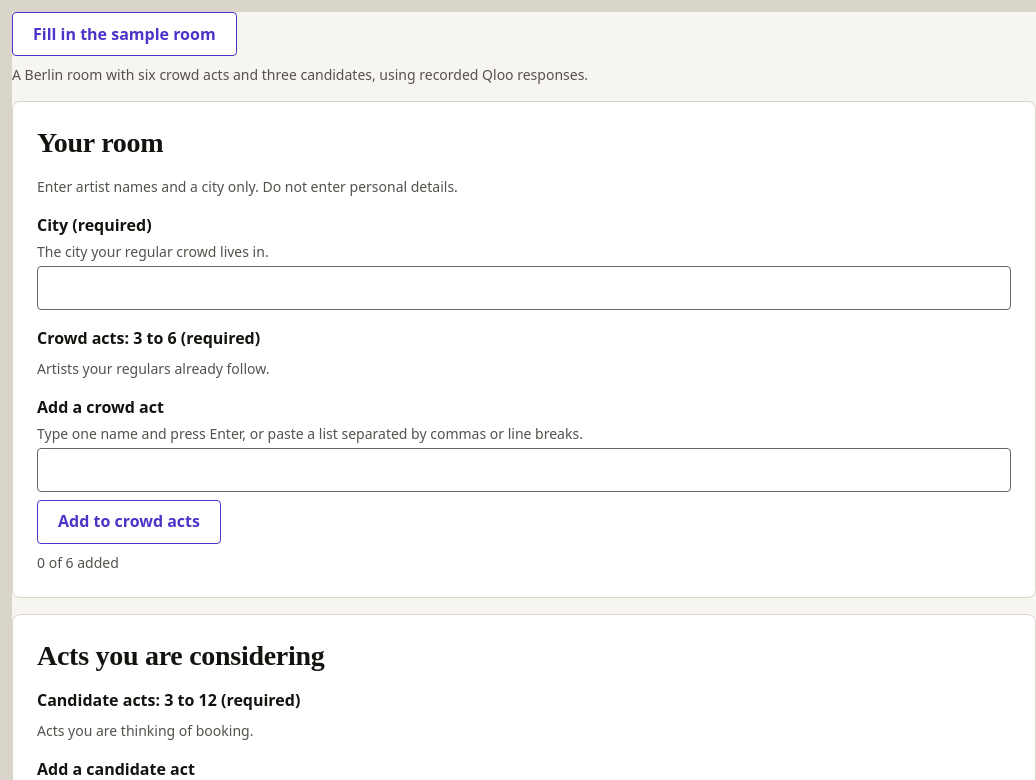
RoomForm › adds with Enter, shows counters, removes with a labelled button and announces it
The width and height of the screenshot is (1036, 780).
Type "Apparat" into the field labelled "Add a crowd act". click: (524, 470)
box: [37, 448, 1011, 492]
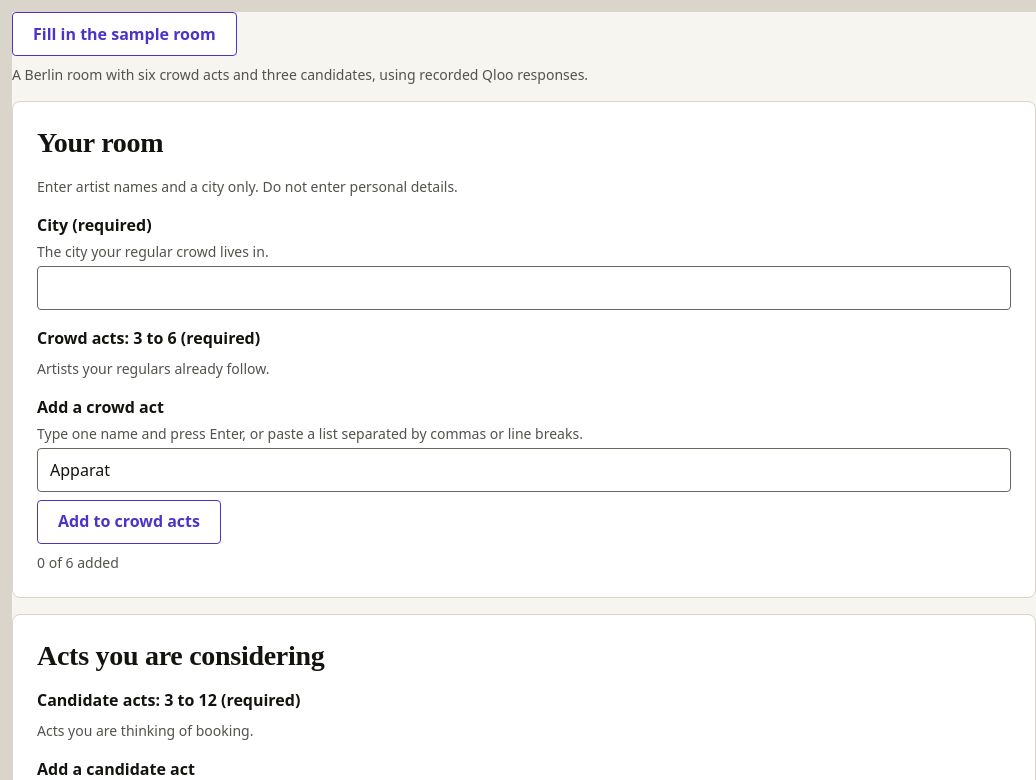
Press Enter in the field labelled "Add a crowd act", box [37, 448, 1011, 492]
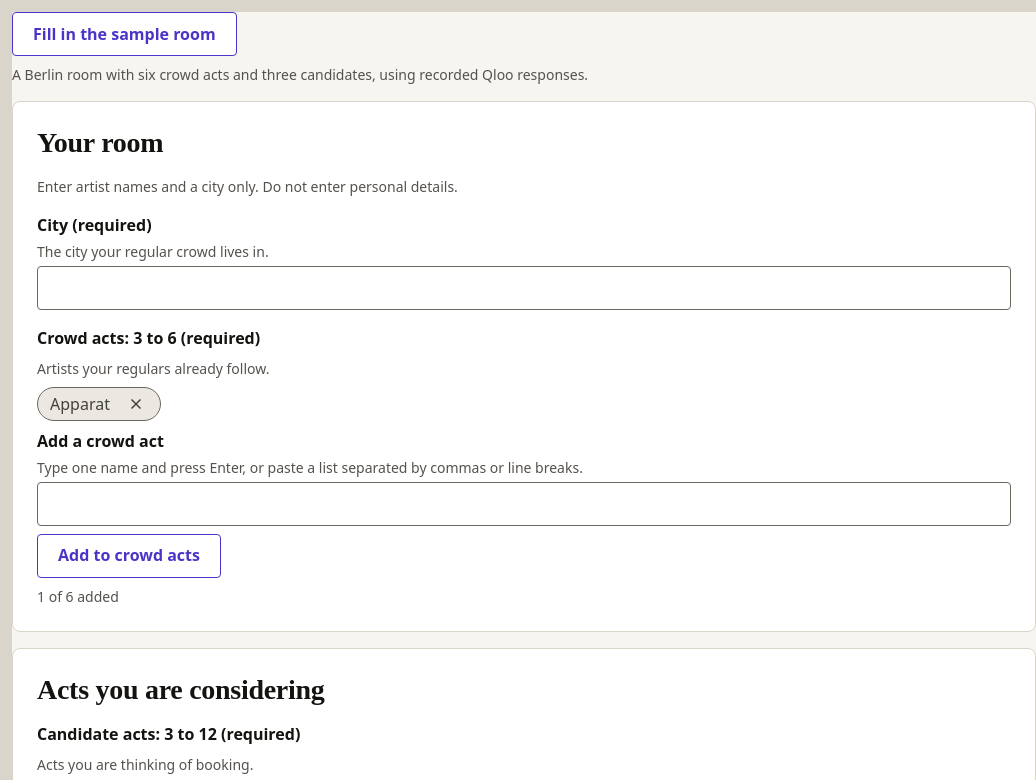
Type "Moderat" into the field labelled "Add a crowd act". click: (524, 504)
box: [37, 482, 1011, 526]
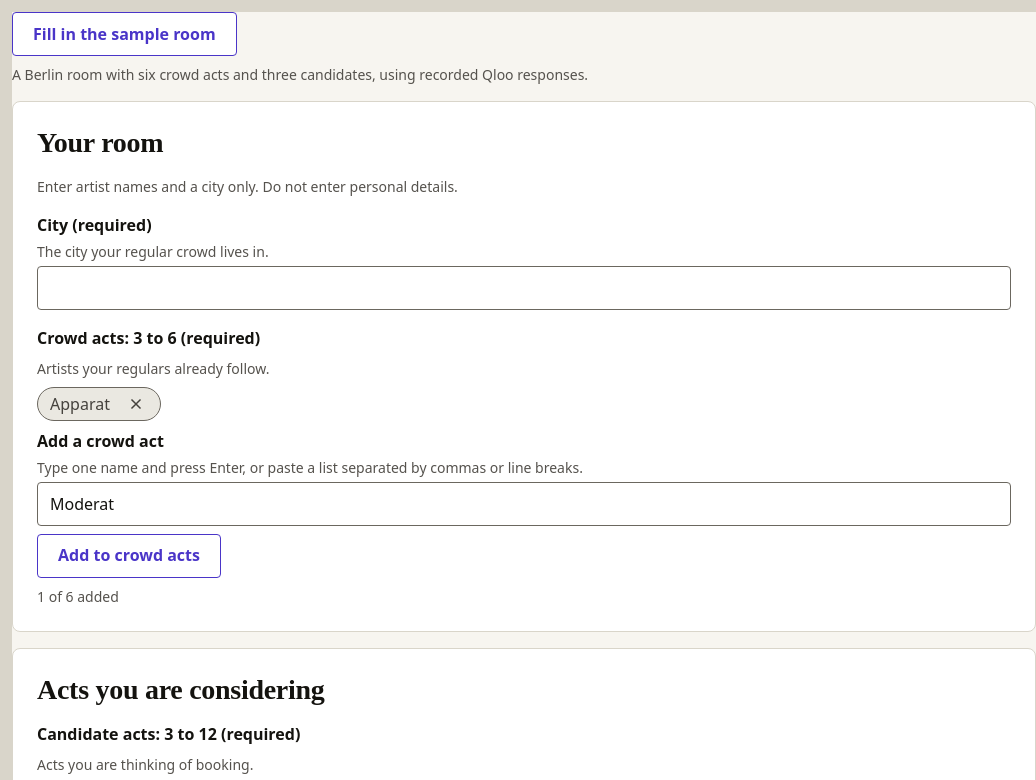
Press Enter in the field labelled "Add a crowd act", box [37, 482, 1011, 526]
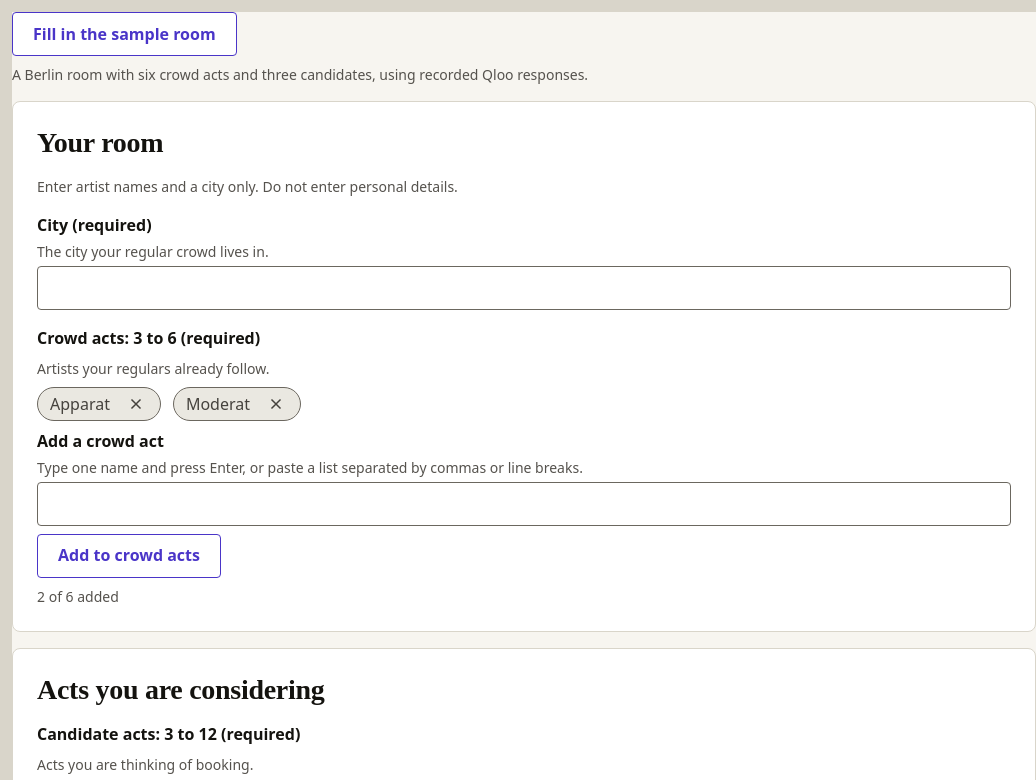
Now the text "2 of 6 added" is shown, box [37, 587, 119, 606]
Click the button named "Remove Apparat from crowd acts". click: (136, 404)
box: [114, 382, 158, 426]
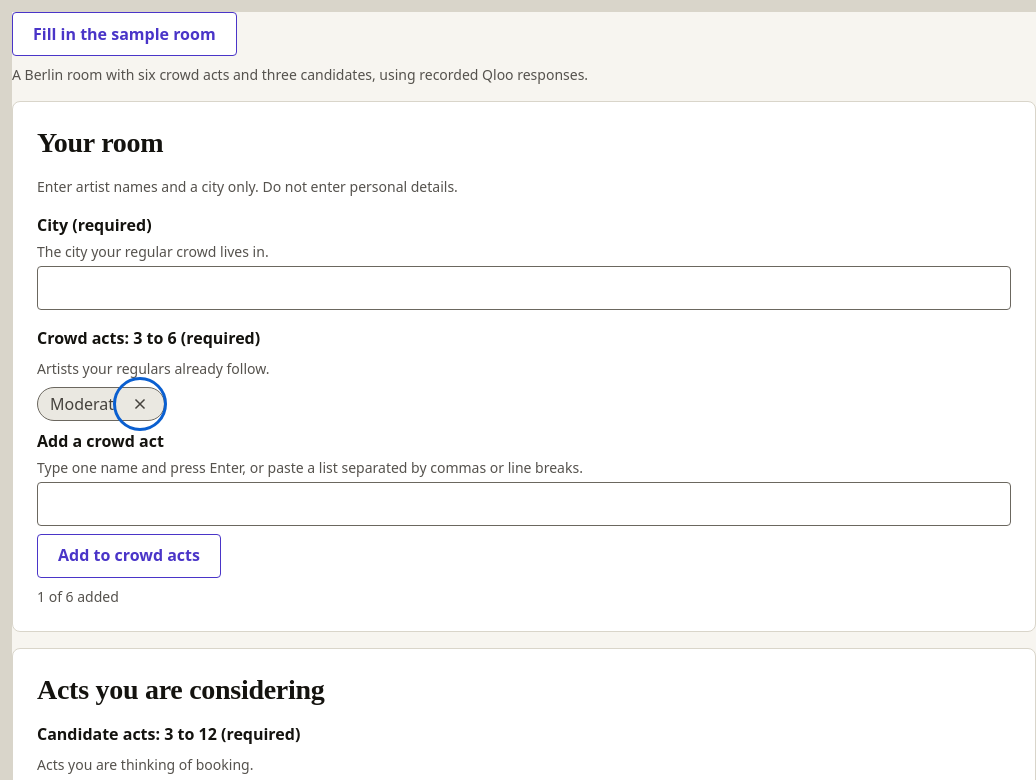
Now the text "1 of 6 added" is shown, box [37, 587, 119, 606]
